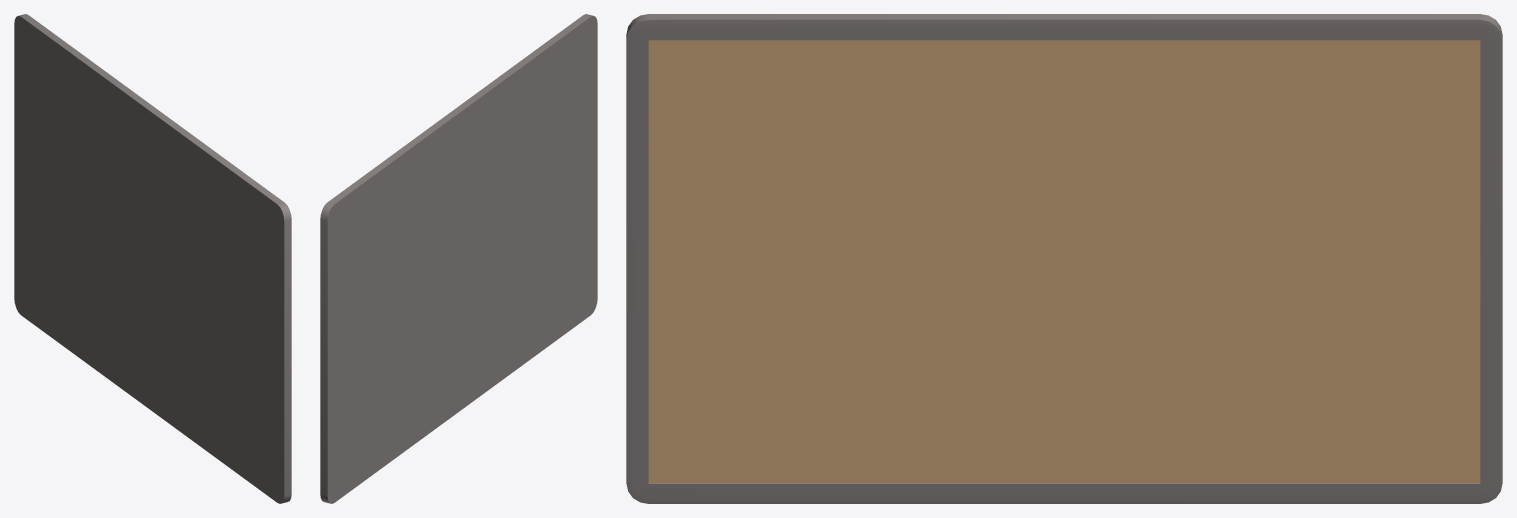
The model's file is board brown.fbx.
3 views of the same model, side by side, from view 1: azimuth 30°, elevation 25°; view 2: azimuth 150°, elevation 25°; view 3: azimuth 270°, elevation 25° (orthographic). The views are drawn at different scales.
Parts seen in each view (by area): view 1: Cube; view 2: Cube; view 3: Cube.
Part boxes in pixels (bbox=[...]): Cube: bbox=[14, 14, 291, 503]; Cube: bbox=[320, 14, 597, 503]; Cube: bbox=[626, 14, 1502, 503].
Size of the model in its own units: 13.58 by 504 by 826.
